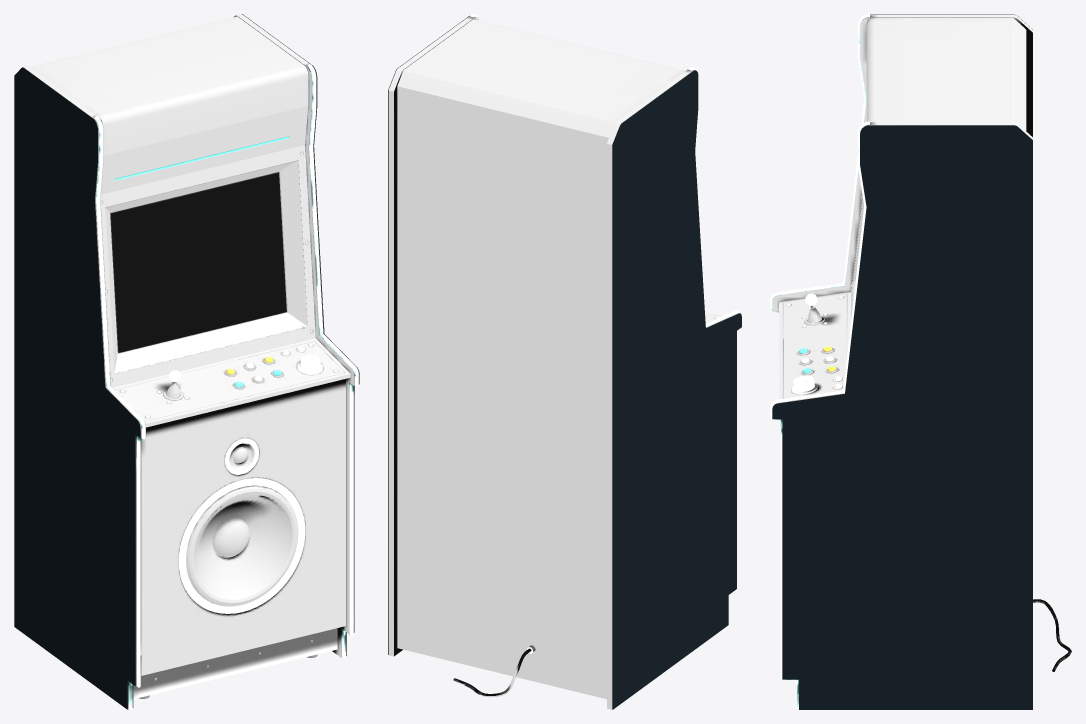
File: cab-echo-frequency-v2.glb
3 views of the same model, side by side, from view 1: azimuth 30°, elevation 25°; view 2: azimuth 150°, elevation 25°; view 3: azimuth 270°, elevation 25° (orthographic). The views are drawn at different scales.
Parts seen in each view (by area): view 1: body, side_art_l, screen, glass, trim, side_art_r, metal; view 2: body, side_art_l, side_art_r; view 3: side_art_r, body, trim, metal.
Part boxes in pixels (<box>): body: <box>23,14,359,709</box>; side_art_l: <box>14,67,140,709</box>; screen: <box>111,172,286,352</box>; glass: <box>111,173,287,352</box>; trim: <box>94,64,358,709</box>; side_art_r: <box>242,14,359,655</box>; metal: <box>100,152,338,698</box>; body: <box>388,16,738,709</box>; side_art_l: <box>612,70,741,709</box>; side_art_r: <box>388,16,469,654</box>; side_art_r: <box>772,125,1032,709</box>; body: <box>772,15,1032,408</box>; trim: <box>770,14,869,709</box>; metal: <box>786,196,862,394</box>.
Size of the model in its own units: 0.783 by 1.94 by 0.904.
22 materials, 9 textured.
